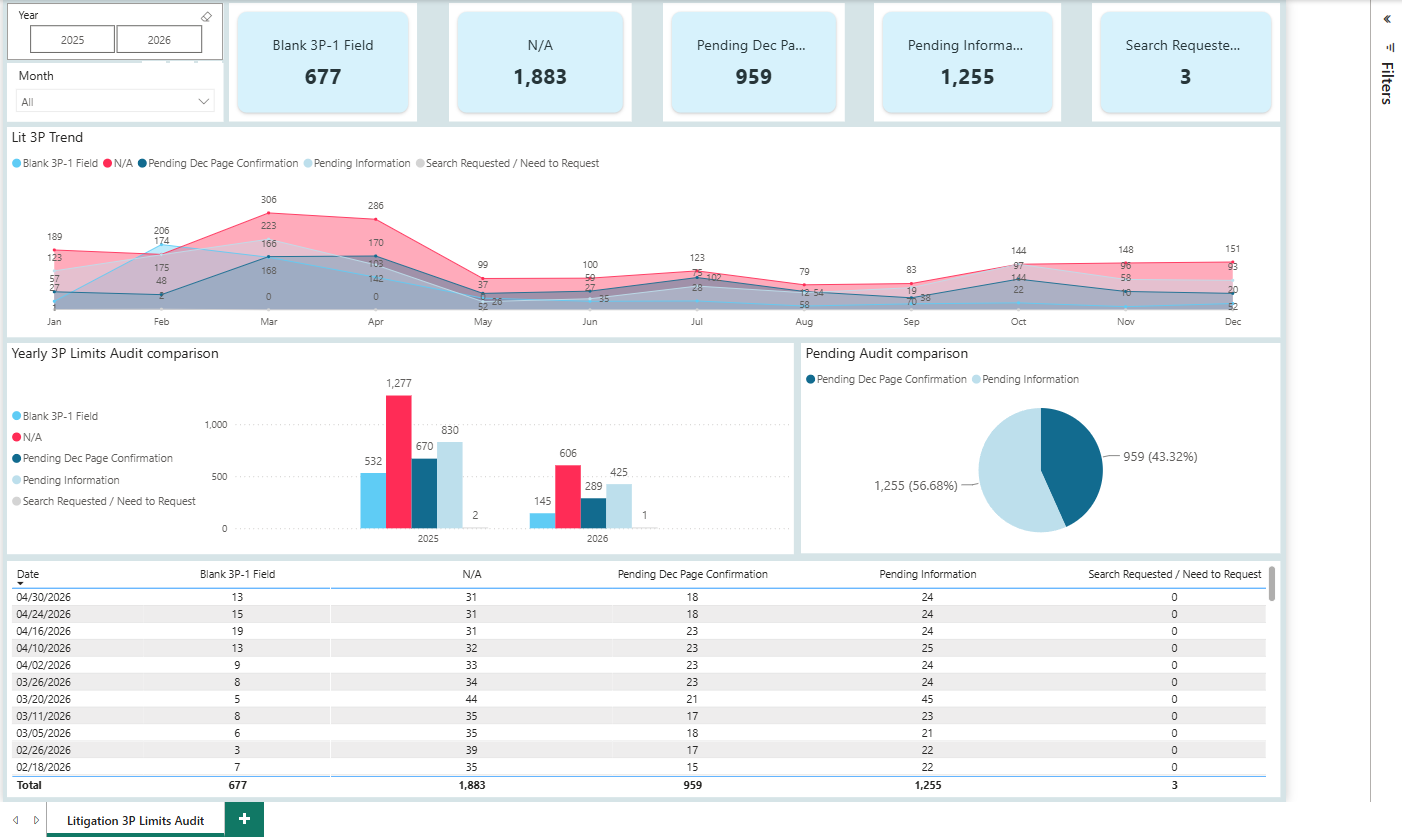

What the dashboard file says about the page in this screenshot:
{"tool":"powerbi","page":{"name":"Litigation 3P Limits Audit","canvas":[1440,900],"ordinal":0},"visuals":[{"type":"pieChart","title":"Pending Audit comparison","fields":{"Y":["Sum(Lit 3P Limits Audit.Pending from Disco (Dec Page Confirmation))","Sum(Lit 3P Limits Audit.Pending Info)"]},"box":[895.2,384.6,537.9,236.5],"z":1000},{"type":"slicer","fields":{"Values":["Lit 3P Limits Audit.Date.Variation.Date Hierarchy.Year"]},"box":[4.5,3.4,242.6,63.5],"z":2000},{"type":"slicer","fields":{"Values":["Lit 3P Limits Audit.Short Month"]},"box":[4.5,70.3,242.6,65.8],"z":3000},{"type":"tableEx","title":"Litigation Monthly Audit","fields":{"Values":["Lit 3P Limits Audit.Date","Sum(Lit 3P Limits Audit.Blank 3P-1 Field)","Sum(Lit 3P Limits Audit.N/A)","Sum(Lit 3P Limits Audit.Pending from Disco (Dec Page Confirmation))","Sum(Lit 3P Limits Audit.Pending Info)","Sum(Lit 3P Limits Audit.Search Requested / Need to Request)"]},"box":[4.5,629.3,1428.7,265.3],"z":4000},{"type":"clusteredColumnChart","title":"Yearly 3P Limits Audit comparison","fields":{"Category":["Lit 3P Limits Audit.Date.Variation.Date Hierarchy.Year"],"Y":["Sum(Lit 3P Limits Audit.Blank 3P-1 Field)","Sum(Lit 3P Limits Audit.N/A)","Sum(Lit 3P Limits Audit.Pending from Disco (Dec Page Confirmation))","Sum(Lit 3P Limits Audit.Pending Info)","Sum(Lit 3P Limits Audit.Search Requested / Need to Request)"]},"box":[4.5,384.4,883.3,237],"z":5000},{"type":"simpleScorecardE4A86F3675B84D178C45F7E034E25D6A","fields":{"metric":["Sum(Lit 3P Limits Audit.Blank 3P-1 Field)"]},"box":[254,3.4,210.9,132.7],"z":6000},{"type":"simpleScorecardE4A86F3675B84D178C45F7E034E25D6A","fields":{"metric":["Sum(Lit 3P Limits Audit.N/A)"]},"box":[500,3.4,205.2,132.7],"z":7000},{"type":"simpleScorecardE4A86F3675B84D178C45F7E034E25D6A","fields":{"metric":["Sum(Lit 3P Limits Audit.Pending Info)"]},"box":[977.4,3.4,209.8,132.7],"z":8000},{"type":"simpleScorecardE4A86F3675B84D178C45F7E034E25D6A","fields":{"metric":["Sum(Lit 3P Limits Audit.Search Requested / Need to Request)"]},"box":[1222.3,3.4,210.9,132.7],"z":9000},{"type":"simpleScorecardE4A86F3675B84D178C45F7E034E25D6A","fields":{"metric":["Sum(Lit 3P Limits Audit.Pending from Disco (Dec Page Confirmation))"]},"box":[740.4,3.4,204.1,132.7],"z":10000},{"type":"lineChart","title":"Lit 3P Trend","fields":{"Y":["Sum(Lit 3P Limits Audit.Blank 3P-1 Field)","Sum(Lit 3P Limits Audit.N/A)","Sum(Lit 3P Limits Audit.Pending from Disco (Dec Page Confirmation))","Sum(Lit 3P Limits Audit.Pending Info)","Sum(Lit 3P Limits Audit.Search Requested / Need to Request)"],"Category":["Lit 3P Limits Audit.Short Month"]},"box":[4.5,142.9,1428.7,235.8],"z":11000}]}

Visuals, with their boxes in screenshot pixels (x1, y1, x2, y2):
"Pending Audit comparison" pieChart: x1=802, y1=340, x2=1277, y2=549
slicer - Lit 3P Limits Audit.Date.Variation.Date Hierarchy.Year: x1=15, y1=3, x2=229, y2=59
slicer - Lit 3P Limits Audit.Short Month: x1=15, y1=62, x2=229, y2=120
"Litigation Monthly Audit" tableEx: x1=15, y1=556, x2=1277, y2=791
"Yearly 3P Limits Audit comparison" clusteredColumnChart: x1=15, y1=340, x2=795, y2=549
simpleScorecardE4A86F3675B84D178C45F7E034E25D6A - Sum(Lit 3P Limits Audit.Blank 3P-1 Field): x1=235, y1=3, x2=422, y2=120
simpleScorecardE4A86F3675B84D178C45F7E034E25D6A - Sum(Lit 3P Limits Audit.N/A): x1=453, y1=3, x2=634, y2=120
simpleScorecardE4A86F3675B84D178C45F7E034E25D6A - Sum(Lit 3P Limits Audit.Pending Info): x1=875, y1=3, x2=1060, y2=120
simpleScorecardE4A86F3675B84D178C45F7E034E25D6A - Sum(Lit 3P Limits Audit.Search Requested / Need to Request): x1=1091, y1=3, x2=1277, y2=120
simpleScorecardE4A86F3675B84D178C45F7E034E25D6A - Sum(Lit 3P Limits Audit.Pending from Disco (Dec Page Confirmation)): x1=665, y1=3, x2=846, y2=120
"Lit 3P Trend" lineChart: x1=15, y1=126, x2=1277, y2=335
